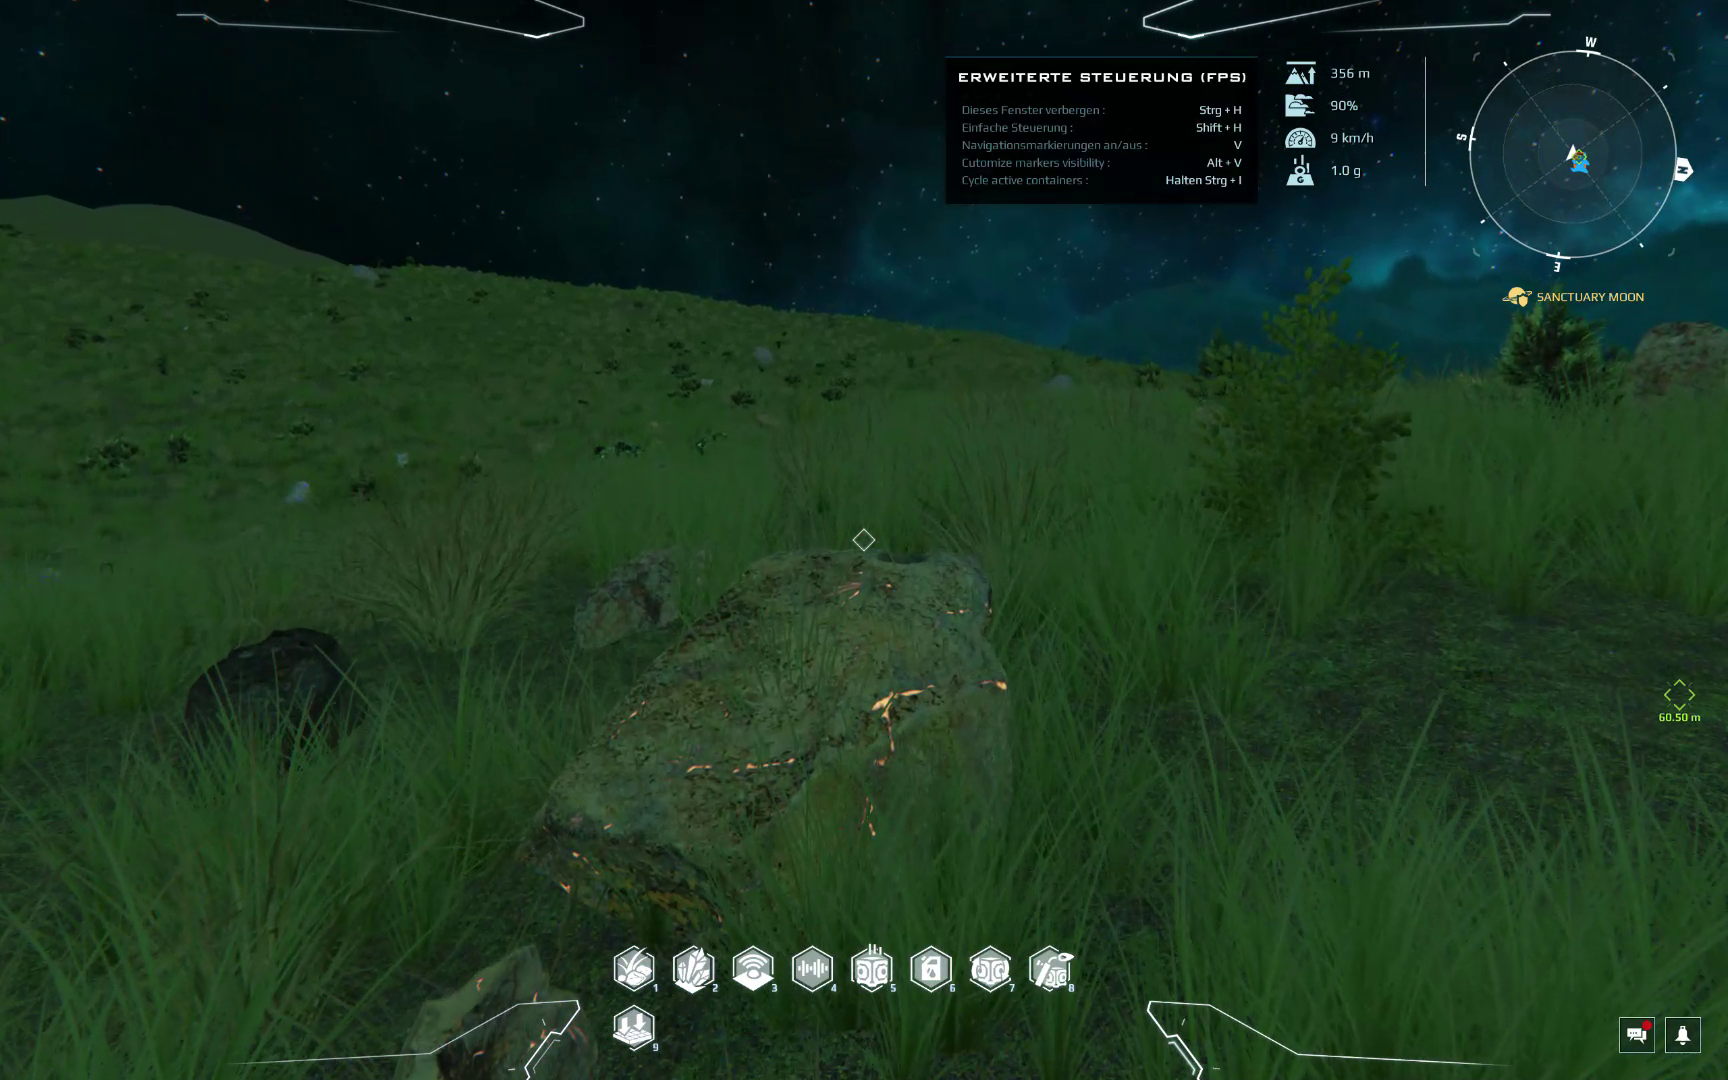Ore: (505, 547, 1026, 993), (384, 946, 606, 1080), (170, 625, 379, 747), (564, 542, 685, 643)
